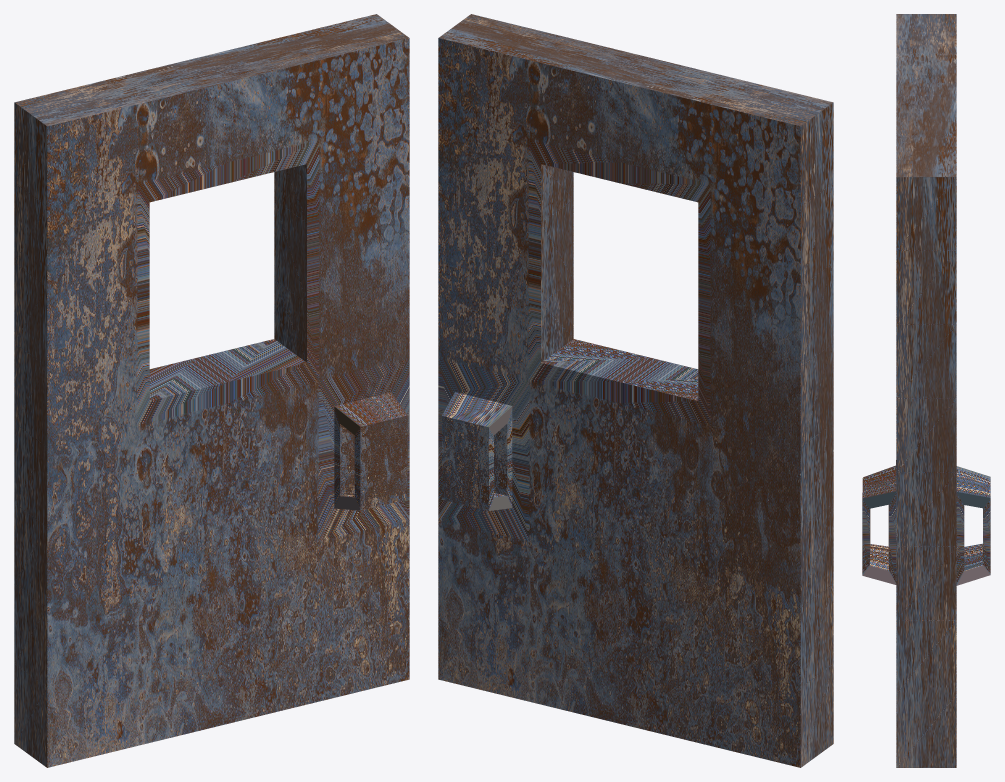
File: door.fbx
3 views of the same model, side by side, from view 1: azimuth 30°, elevation 25°; view 2: azimuth 150°, elevation 25°; view 3: azimuth 270°, elevation 25° (orthographic). The views are drawn at different scales.
Visible parts, largest first — view 1: Box001; view 2: Box001; view 3: Box001.
Boxes of the visible parts, bbox=[...] form: Box001: bbox=[14, 14, 409, 767]; Box001: bbox=[438, 14, 833, 767]; Box001: bbox=[862, 14, 990, 767].
Bounding box in the file's own units: 61.76 × 105 × 20.56.
Materials: 1 (1 with a texture image).
